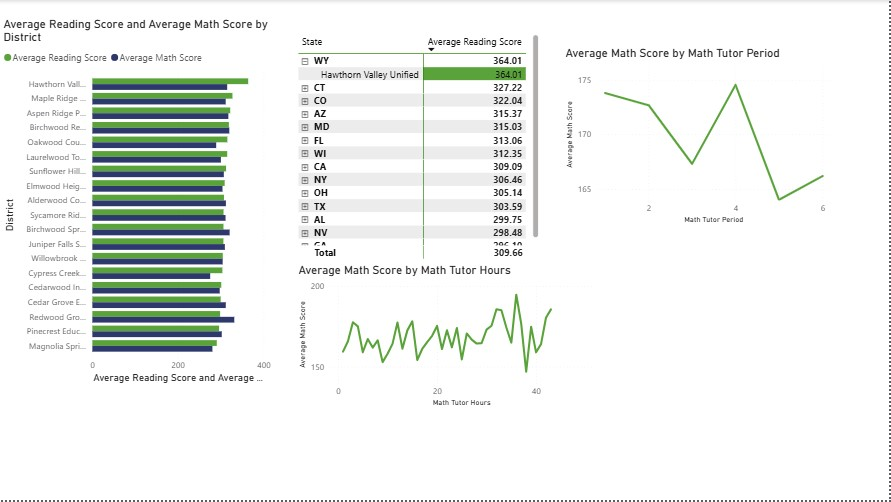

This screenshot's page, from the dashboard's own definition file:
{"tool":"powerbi","page":{"name":"Page 2","canvas":[1280,720],"ordinal":1},"visuals":[{"type":"clusteredBarChart","fields":{"Category":["Test Scores.District"],"Y":["Test Scores.Average Reading Score","Test Scores.Average Math Score"]},"box":[0,24.5,394.6,532.8],"z":0},{"type":"pivotTable","fields":{"Rows":["Test Scores.State Hierarchy.State","Test Scores.State Hierarchy.District"],"Values":["Test Scores.Average Reading Score"]},"box":[424.8,44.6,355.7,332.6],"z":1000},{"type":"lineChart","fields":{"Category":["Test Scores.Math Tutor Hours"],"Y":["Test Scores.Average Math Score"]},"box":[424.8,378.7,433.4,211.7],"z":2000},{"type":"lineChart","fields":{"Category":["Test Scores.Math Tutor Period"],"Y":["Test Scores.Average Math Score"]},"box":[809.3,66.2,390.2,260.6],"z":4000}]}

Visuals, with their boxes in screenshot pixels (x1, y1, x2, y2), scaled from the page's 1280x720 canvas onto the 891x502 screenshot:
clusteredBarChart - Test Scores.District x Test Scores.Average Reading Score: select_region(0, 17, 275, 389)
pivotTable - Test Scores.State Hierarchy.State x Test Scores.State Hierarchy.District: select_region(296, 31, 543, 263)
lineChart - Test Scores.Math Tutor Hours x Test Scores.Average Math Score: select_region(296, 264, 597, 412)
lineChart - Test Scores.Math Tutor Period x Test Scores.Average Math Score: select_region(563, 46, 835, 228)
